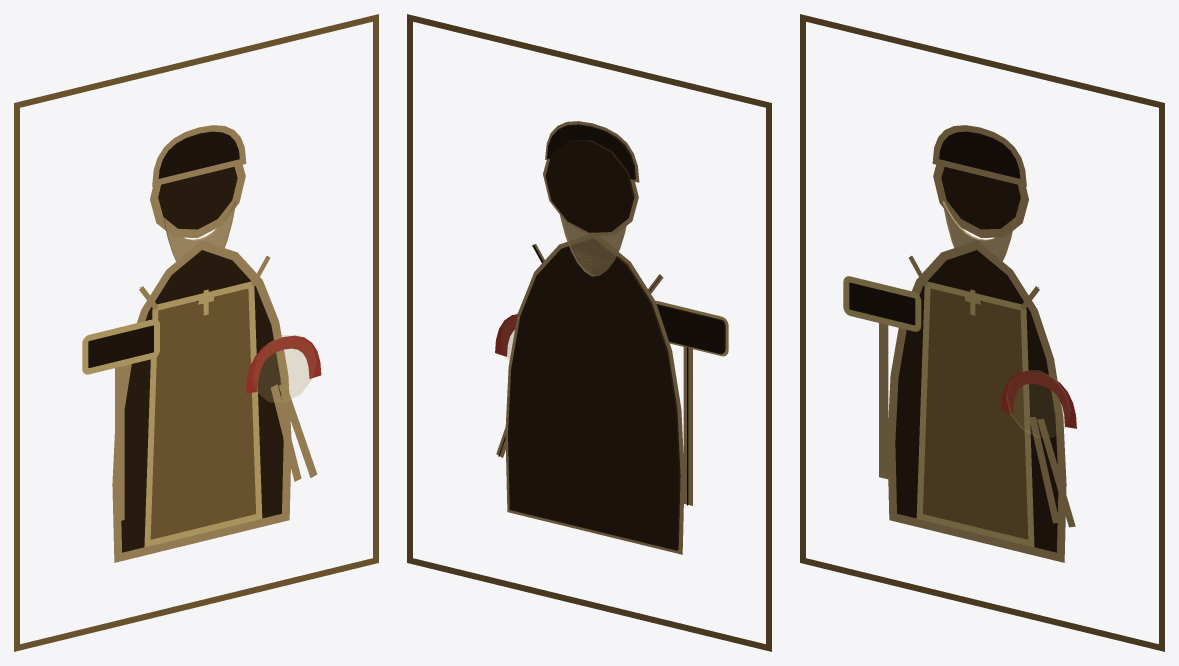
The model's file is npc-kuznets-brat.glb.
3 renders of one model, left to right at view 1: azimuth 30°, elevation 25°; view 2: azimuth 150°, elevation 25°; view 3: azimuth 330°, elevation 25°, orthographic.
Parts seen in each view (by area): view 1: npc-kuznets-brat; view 2: npc-kuznets-brat; view 3: npc-kuznets-brat.
Part boxes in pixels (x1,y1,x2,y2): npc-kuznets-brat: [14, 14, 378, 651]; npc-kuznets-brat: [407, 14, 771, 651]; npc-kuznets-brat: [800, 14, 1164, 651].
Bounding box in the file's own units: 1.14 × 1.64 × 0.09.
